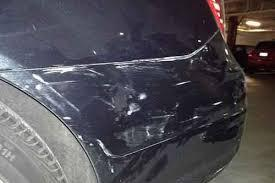rear-bumper-dent: (0, 32, 253, 182)
